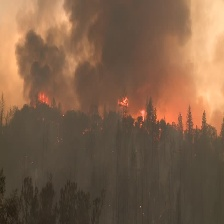fire: (114, 95, 133, 107), (38, 93, 49, 105), (137, 108, 147, 120)
smoke: (2, 3, 224, 123)
